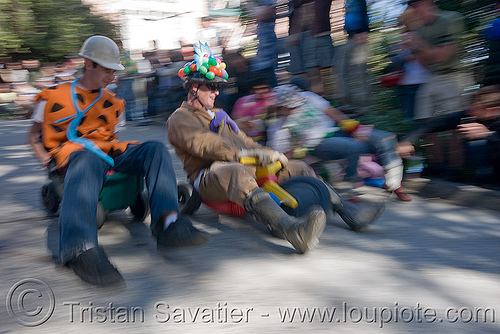helmet: (181, 53, 232, 89), (79, 35, 126, 67)
